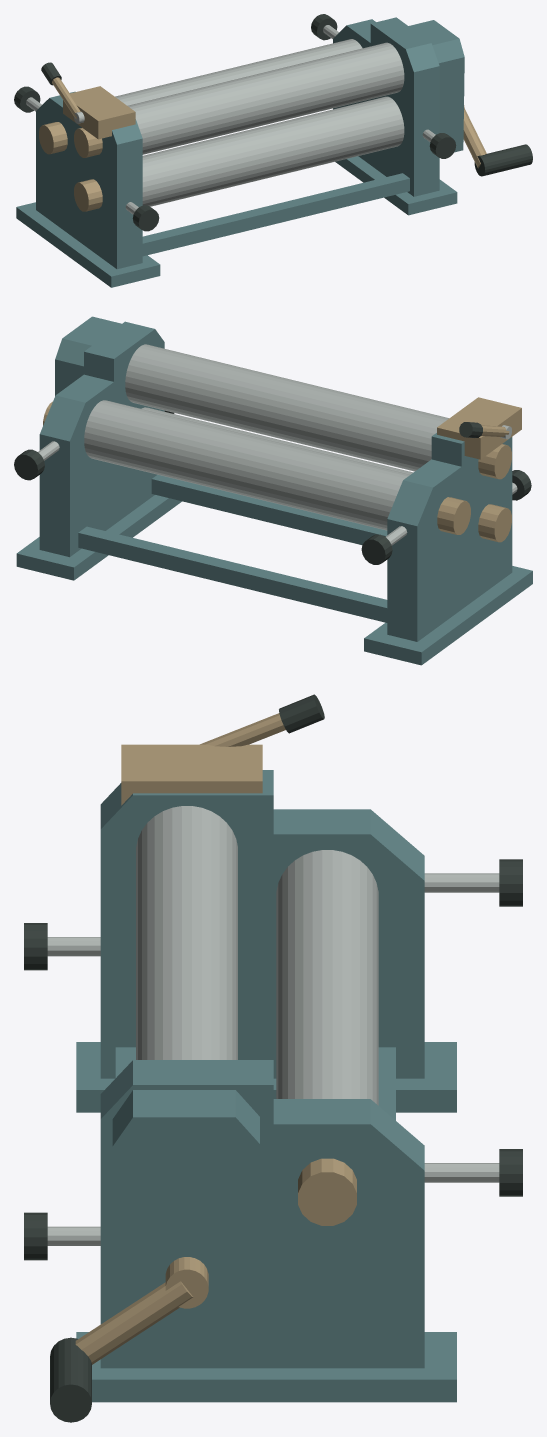
3 views of the same model, one above another, from view 1: azimuth 30°, elevation 25°; view 2: azimuth 150°, elevation 25°; view 3: azimuth 270°, elevation 25° (orthographic). The views are drawn at different scales.
Parts seen in each view (by area): view 1: WholeFullWidthUpperFrontRoll, WholeFullWidthLowerFrontRoll, WholeShapedEndCheek-1, WholeShapedEndCheek1, WholeLowCrossTie0, WholeRightFrontGearCover, WholeLongMountingFoot-1, WholeFullWidthRearOffsetRoll, WholeLeftUpperFixedBearingCap, WholeLongMountingFoot1, WholeCylindricalCrankGrip, WholeOuterLowerFrontBearingBoss-1 (+8 smaller); view 2: WholeFullWidthRearOffsetRoll, WholeFullWidthUpperFrontRoll, WholeShapedEndCheek-1, WholeShapedEndCheek1, WholeLowCrossTie1, WholeLowCrossTie0, WholeLongMountingFoot-1, WholeLongMountingFoot1, WholeLeftUpperFixedBearingCap, WholeRightFrontGearCover, WholeOuterLowerFrontBearingBoss-1, WholeOuterRearOffsetBearingBoss-1 (+5 smaller); view 3: WholeShapedEndCheek1, WholeShapedEndCheek-1, WholeRightFrontGearCover, WholeFullWidthUpperFrontRoll, WholeFullWidthRearOffsetRoll, WholeLongMountingFoot1, WholeLeftUpperFixedBearingCap, WholeLongMountingFoot-1, WholeOffsetSideCrank, WholeOuterRearOffsetBearingBoss1, WholeCylindricalCrankGrip, WholeProudLowerCrankShaft (+11 smaller).
Part boxes in pixels (x1,y1,x2,y2): WholeFullWidthUpperFrontRoll: (127, 42, 404, 154); WholeFullWidthLowerFrontRoll: (142, 96, 404, 206); WholeShapedEndCheek-1: (36, 91, 142, 269); WholeShapedEndCheek1: (333, 17, 439, 196); WholeLowCrossTie0: (142, 173, 409, 256); WholeRightFrontGearCover: (409, 20, 464, 152); WholeLongMountingFoot-1: (16, 202, 160, 287); WholeFullWidthRearOffsetRoll: (115, 39, 362, 105); WholeLeftUpperFixedBearingCap: (63, 86, 135, 139); WholeLongMountingFoot1: (335, 156, 457, 215); WholeCylindricalCrankGrip: (474, 144, 532, 176); WholeOuterLowerFrontBearingBoss-1: (74, 179, 102, 211); WholeFullWidthRearOffsetRoll: (84, 400, 409, 530); WholeFullWidthUpperFrontRoll: (125, 344, 448, 471); WholeShapedEndCheek-1: (387, 433, 512, 641); WholeShapedEndCheek1: (39, 321, 164, 557); WholeLowCrossTie1: (78, 526, 387, 622); WholeLowCrossTie0: (151, 474, 387, 544); WholeLongMountingFoot-1: (364, 566, 532, 665); WholeLongMountingFoot1: (16, 495, 181, 580); WholeLeftUpperFixedBearingCap: (437, 397, 521, 459); WholeRightFrontGearCover: (55, 316, 121, 395); WholeOuterLowerFrontBearingBoss-1: (478, 504, 511, 542); WholeOuterRearOffsetBearingBoss-1: (437, 497, 470, 534); WholeShapedEndCheek1: (100, 1060, 424, 1368); WholeShapedEndCheek-1: (100, 770, 424, 1078); WholeRightFrontGearCover: (112, 1090, 259, 1334); WholeFullWidthUpperFrontRoll: (136, 806, 237, 1059); WholeFullWidthRearOffsetRoll: (276, 850, 378, 1105); WholeLongMountingFoot1: (76, 1332, 456, 1402); WholeLeftUpperFixedBearingCap: (121, 744, 262, 805); WholeLongMountingFoot-1: (76, 1042, 456, 1112); WholeOffsetSideCrank: (75, 1281, 192, 1364); WholeOuterRearOffsetBearingBoss1: (298, 1158, 356, 1225); WholeCylindricalCrankGrip: (50, 1337, 91, 1422); WholeProudLowerCrankShaft: (165, 1257, 208, 1308).
Bounding box in the file's own units: 1.82 × 0.7468 × 0.924.
